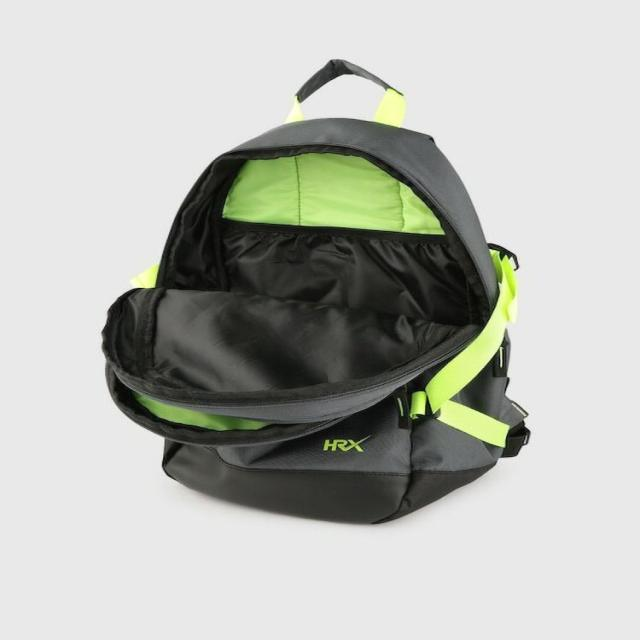backpack: (101, 59, 532, 526)
